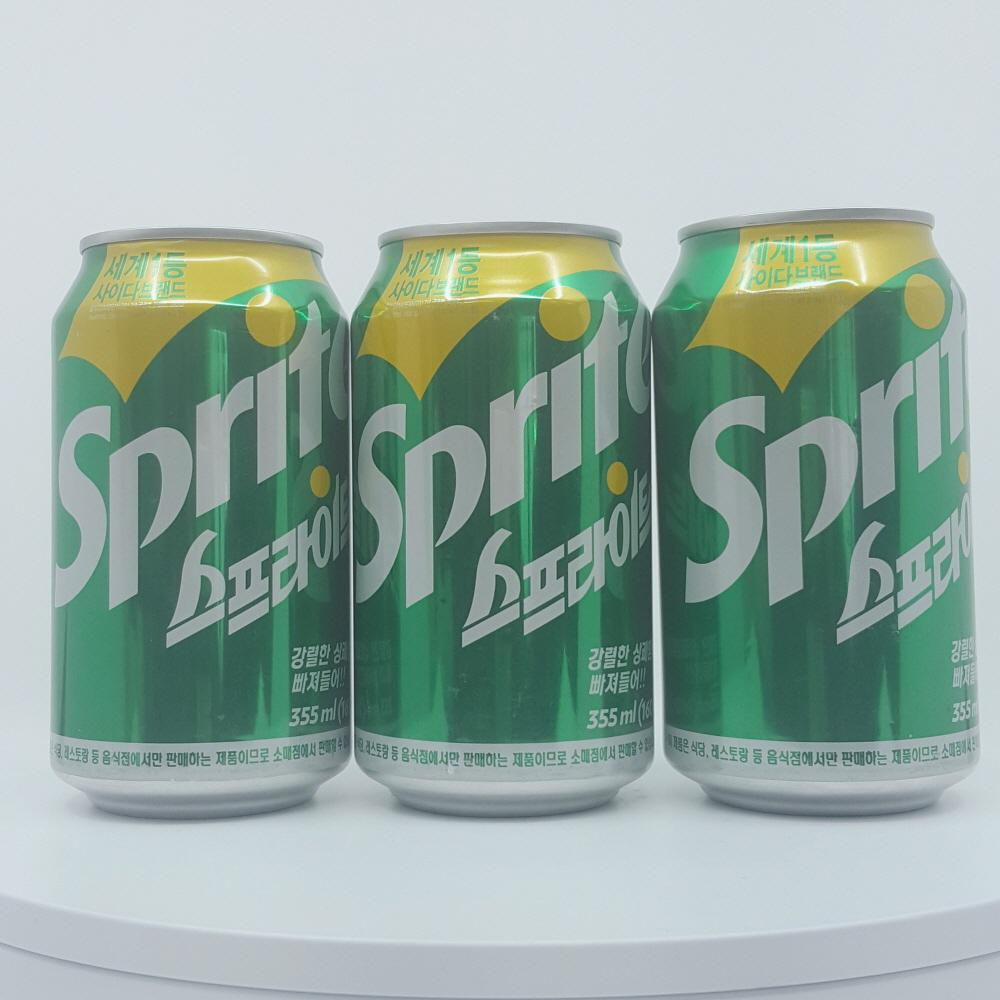sprite: (661, 200, 978, 831), (345, 217, 661, 818), (41, 213, 348, 823)
